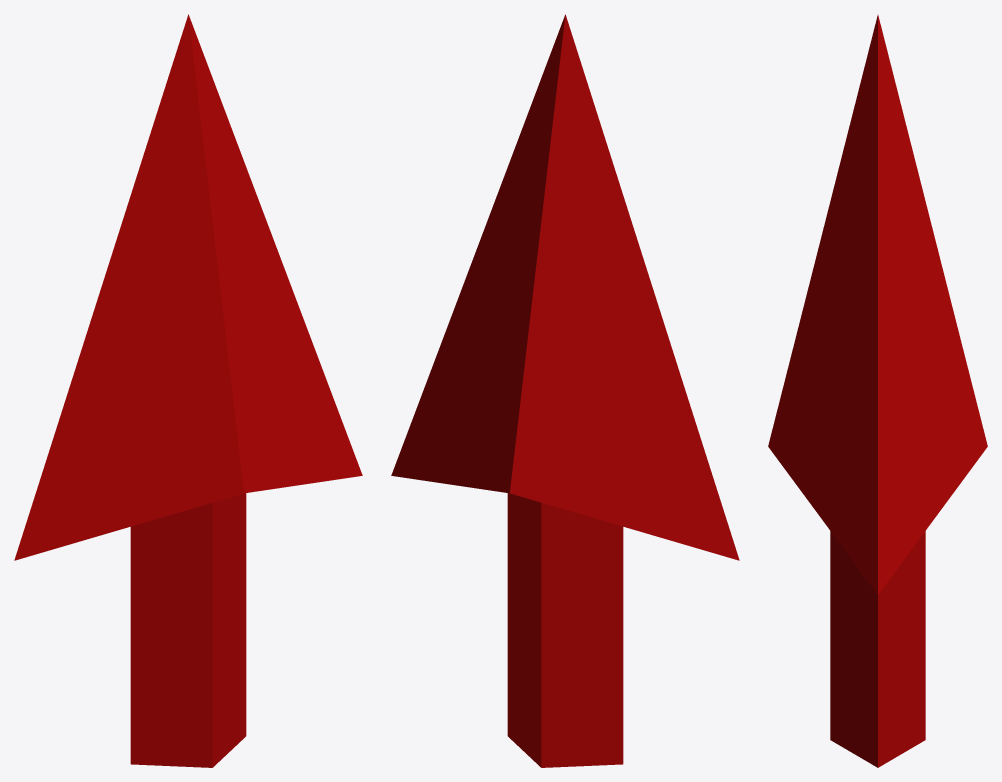
File: Help strelica 2.fbx
3 renders of one model, left to right at view 1: azimuth 30°, elevation 25°; view 2: azimuth 150°, elevation 25°; view 3: azimuth 270°, elevation 25°, orthographic.
Parts seen in each view (by area): view 1: pCone1, pCube1; view 2: pCone1, pCube1; view 3: pCone1, pCube1.
Part boxes in pixels (x1=…): pCone1: x1=14, y1=14, x2=362, y2=560; pCube1: x1=130, y1=493, x2=246, y2=767; pCone1: x1=391, y1=14, x2=739, y2=560; pCube1: x1=507, y1=493, x2=623, y2=767; pCone1: x1=768, y1=15, x2=987, y2=594; pCube1: x1=830, y1=531, x2=925, y2=767.
Size of the model in its own units: 2 by 4.04 by 1.11.
